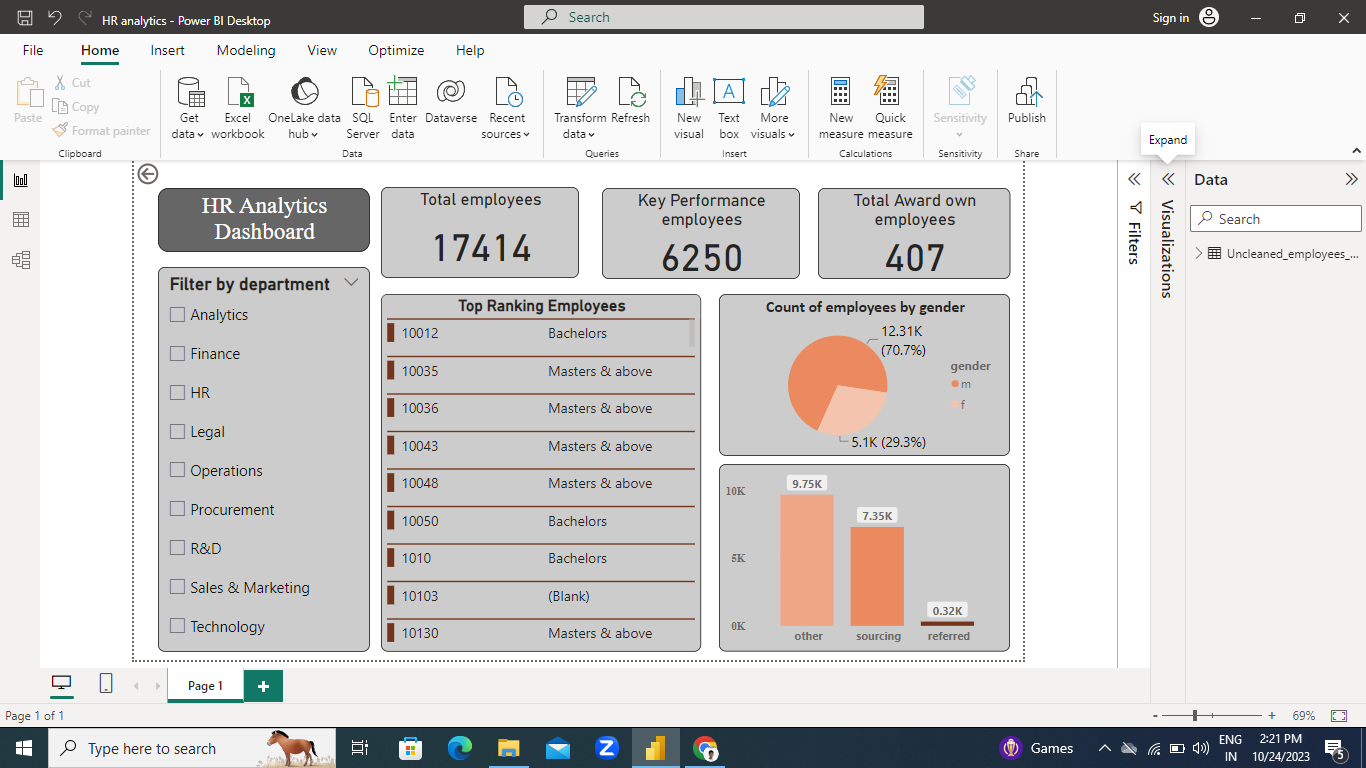

This screenshot's page, from the dashboard's own definition file:
{"tool":"powerbi","page":{"name":"Page 1","canvas":[1280,720],"ordinal":0},"visuals":[{"type":"card","title":"Total employees","fields":{"Values":["Count(Uncleaned_employees_final_datas.employee_id)"]},"box":[355.6,38.6,285.2,130.9],"z":0},{"type":"actionButton","box":[0,0,100,40],"z":1000},{"type":"slicer","fields":{"Values":["Uncleaned_employees_final_datas.department"]},"box":[35.2,154.3,305.3,553.6],"z":2000},{"type":"card","title":"Key Performance employees","fields":{"Values":["Sum(Uncleaned_employees_final_datas.KPIs_met_more_than_80)"]},"box":[674.4,40.3,285.2,130.9],"z":3001},{"type":"pieChart","title":"Count of employees by gender","fields":{"Y":["CountNonNull(Uncleaned_employees_final_datas.employee_id)"],"Category":["Uncleaned_employees_final_datas.gender"]},"box":[842.1,192.9,419.4,233.2],"z":3002},{"type":"card","title":"Total Award own employees","fields":{"Values":["Sum(Uncleaned_employees_final_datas.awards_won)"]},"box":[984.7,40.3,276.8,130.9],"z":3003},{"type":"lineClusteredColumnComboChart","fields":{"Category":["Uncleaned_employees_final_datas.recruitment_channel"],"Y":["CountNonNull(Uncleaned_employees_final_datas.employee_id)"]},"box":[842.1,437.9,419.4,270.1],"z":3004},{"type":"multiRowCard","title":"Top Ranking Employees","fields":{"Values":["Uncleaned_employees_final_datas.employee_id","Uncleaned_employees_final_datas.education"]},"box":[355.6,192.9,461.3,515],"z":3005},{"type":"textbox","title":"HR Analytics Dashboard","box":[35.2,40.3,305.3,92.3],"z":3006}]}

Visuals, with their boxes on the page's 1280x720 design canvas (x1, y1, x2, y2). These are canvas units, not pixel positions in the 1366x768 screenshot, which may show the page scaled, cropped or inside an application window:
"Total employees" card: detection(356, 39, 641, 170)
actionButton: detection(0, 0, 100, 40)
slicer - Uncleaned_employees_final_datas.department: detection(35, 154, 340, 708)
"Key Performance employees" card: detection(674, 40, 960, 171)
"Count of employees by gender" pieChart: detection(842, 193, 1262, 426)
"Total Award own employees" card: detection(985, 40, 1262, 171)
lineClusteredColumnComboChart - Uncleaned_employees_final_datas.recruitment_channel x CountNonNull(Uncleaned_employees_final_datas.employee_id): detection(842, 438, 1262, 708)
"Top Ranking Employees" multiRowCard: detection(356, 193, 817, 708)
"HR Analytics Dashboard" textbox: detection(35, 40, 340, 133)
